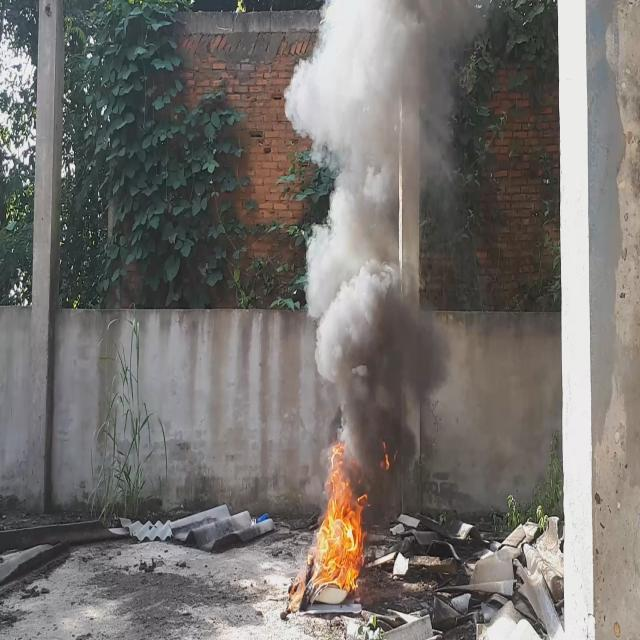Fire: (315, 435, 368, 583)
Smoke: (282, 0, 491, 481)
